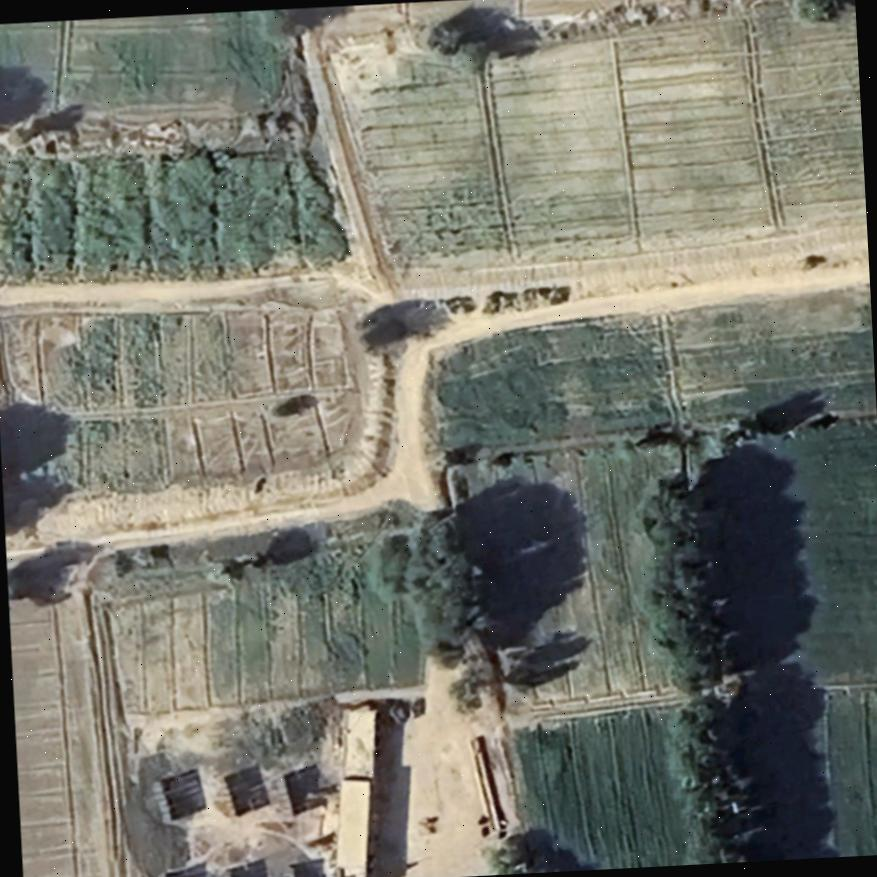Solarpanel: (264, 769, 300, 826), (148, 773, 175, 821)
